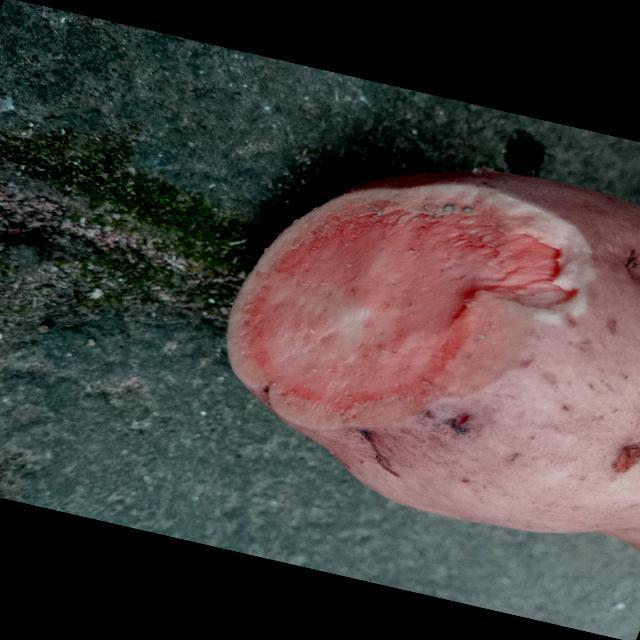Healthy Sweet Potato: (228, 182, 593, 428)
